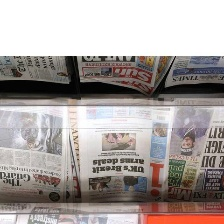news_paper: (72, 100, 170, 207), (0, 99, 71, 205), (165, 105, 224, 205), (73, 50, 175, 98), (14, 203, 141, 224), (0, 54, 73, 86), (162, 54, 224, 91)
